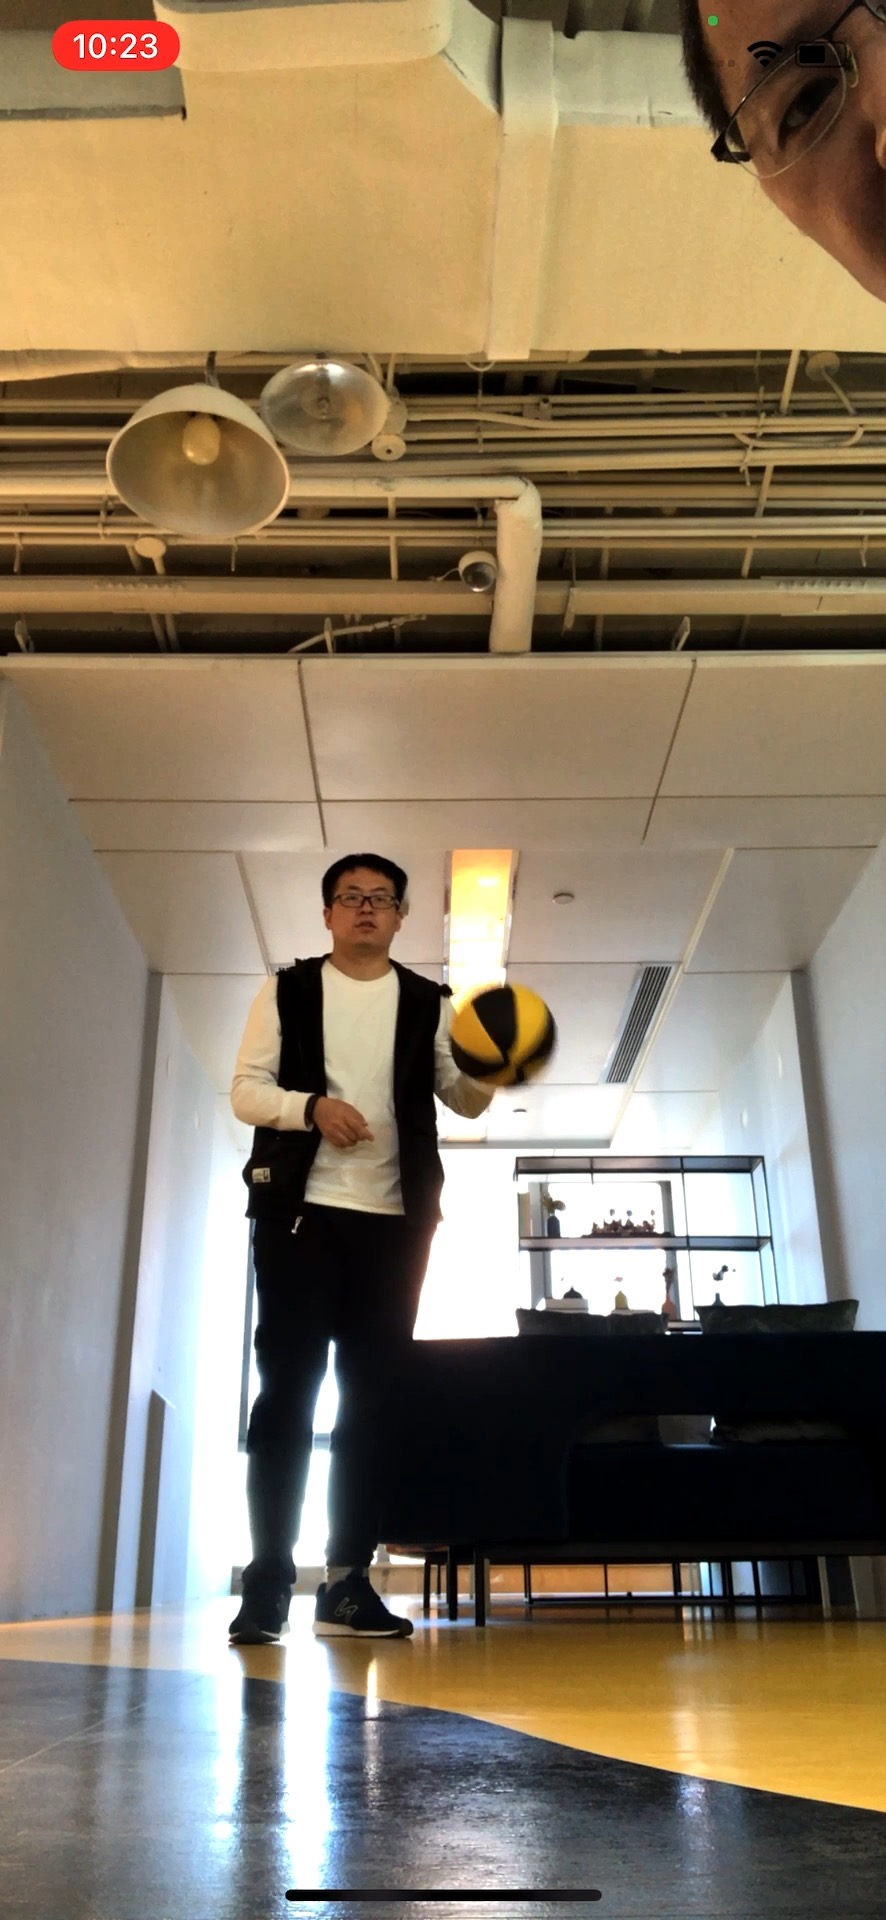ball: (449, 982, 556, 1089)
